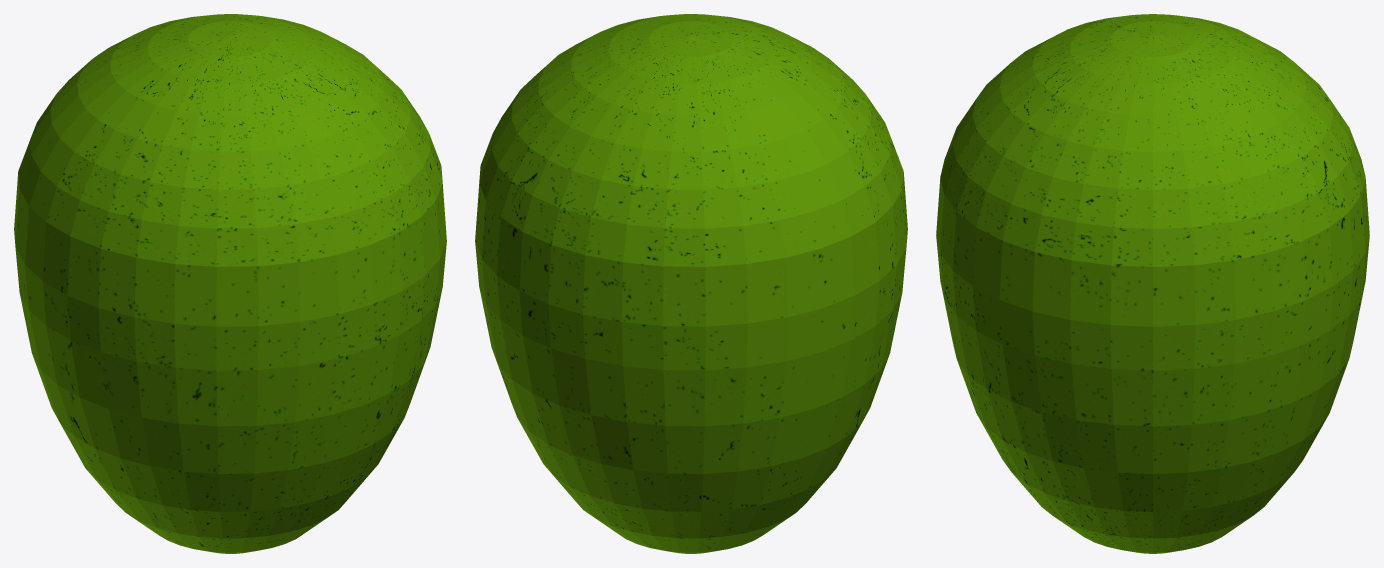
Rendered from aceituna.glb.
3 renders of one model, left to right at view 1: azimuth 30°, elevation 25°; view 2: azimuth 150°, elevation 25°; view 3: azimuth 270°, elevation 25°, orthographic.
Visible parts, largest first — view 1: Aceituna; view 2: Aceituna; view 3: Aceituna.
Boxes of the visible parts, <box> form: Aceituna: <box>14,14,446,553</box>; Aceituna: <box>475,14,907,553</box>; Aceituna: <box>936,14,1369,553</box>.
Size of the model in its own units: 2 by 2.58 by 2.
Materials: 1 (1 with a texture image).
